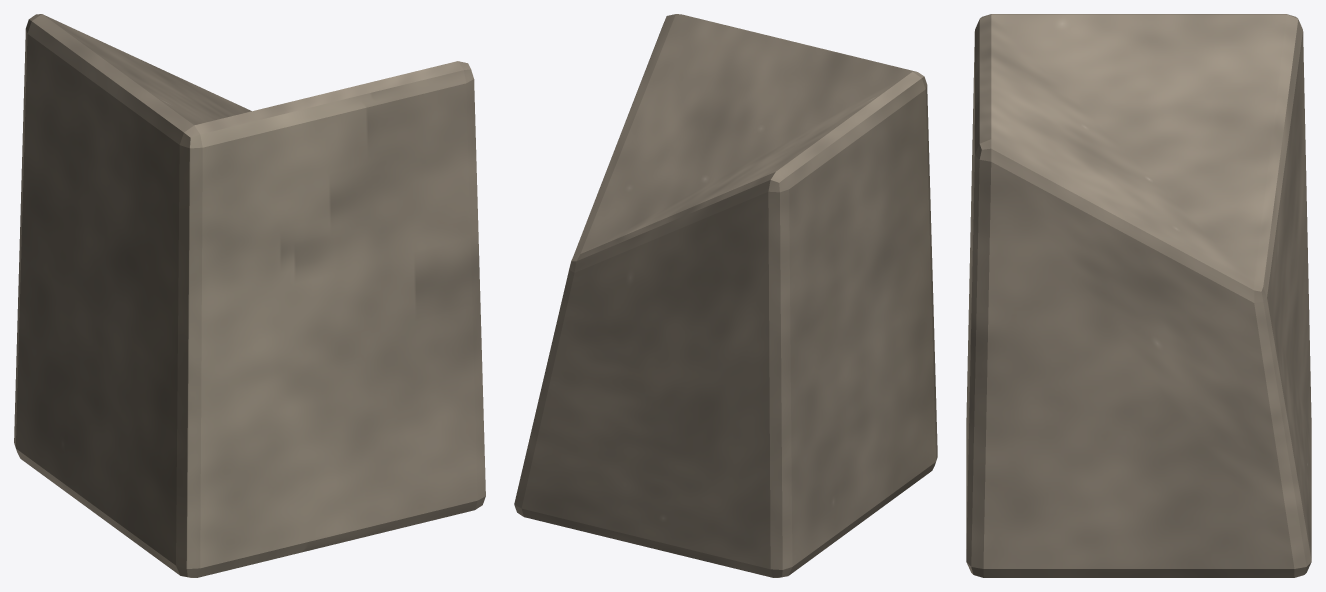
3 renders of one model, left to right at view 1: azimuth 30°, elevation 25°; view 2: azimuth 150°, elevation 25°; view 3: azimuth 270°, elevation 25°, orthographic. The views are drawn at different scales.
Parts seen in each view (by area): view 1: terrain_stone.3; view 2: terrain_stone.3; view 3: terrain_stone.3.
Part boxes in pixels (x1,y1,x2,y2): terrain_stone.3: (14,14,485,577); terrain_stone.3: (514,14,937,577); terrain_stone.3: (966,14,1311,577).
Size of the model in its own units: 0.9 by 1.25 by 0.9.
Materials: 1 (1 with a texture image).
